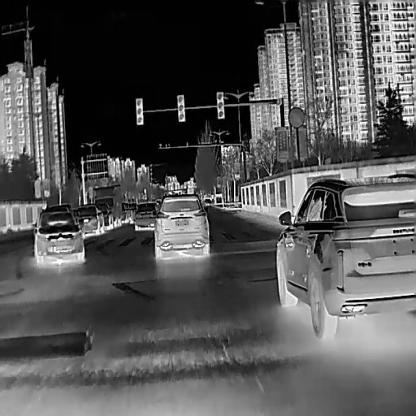car: (274, 171, 416, 341), (150, 192, 209, 257), (31, 209, 85, 262), (79, 203, 104, 234), (132, 201, 156, 230), (96, 202, 114, 229)
truck: (92, 182, 121, 223)
